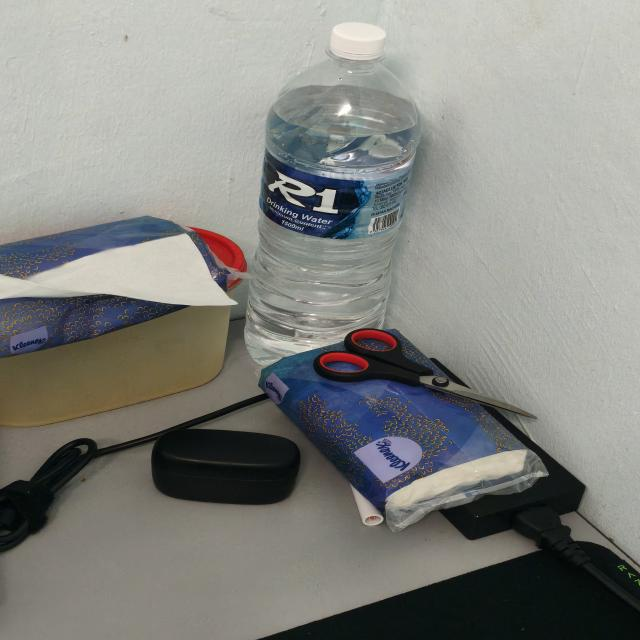scissor: (314, 329, 536, 418)
